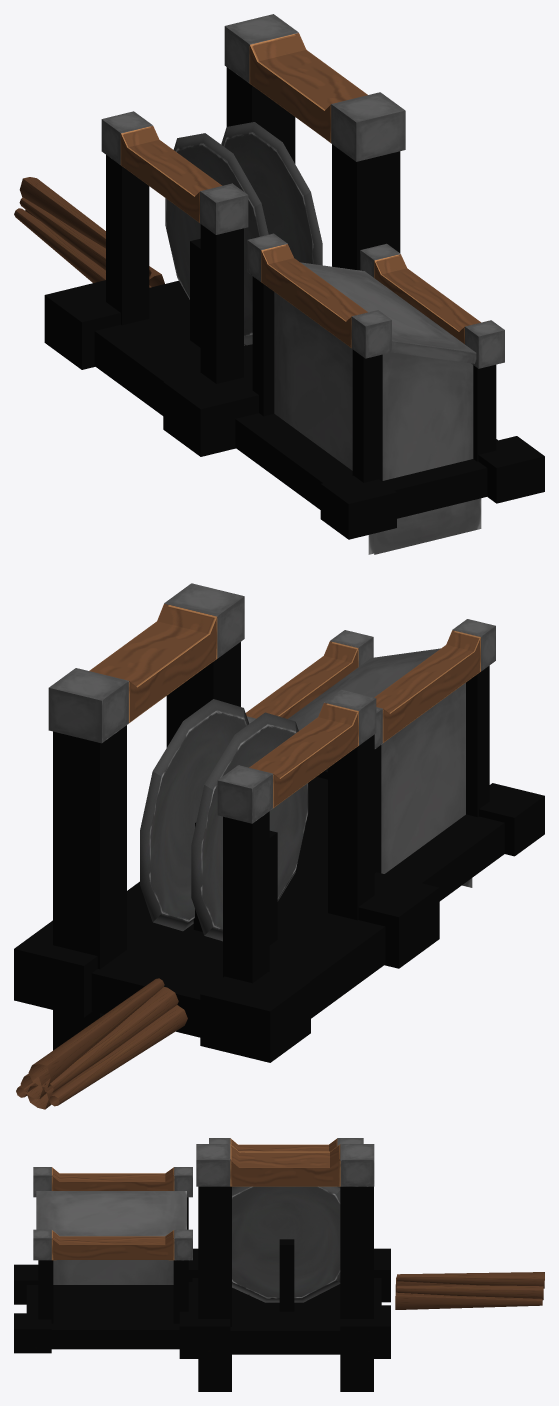
File: Lumber Mill 4.FBX
3 views of the same model, one above another, from view 1: azimuth 30°, elevation 25°; view 2: azimuth 150°, elevation 25°; view 3: azimuth 270°, elevation 25° (orthographic). The views are drawn at different scales.
Visible parts, largest first — view 1: Box573, Box515; view 2: Box573, Box515; view 3: Box573, Box515.
Boxes of the visible parts, box(x1,y1,x2,y2) form: Box573: box(44, 14, 544, 554); Box515: box(14, 177, 164, 287); Box573: box(14, 583, 544, 1062); Box515: box(16, 978, 187, 1109); Box573: box(14, 1138, 390, 1391); Box515: box(395, 1272, 544, 1309).
Bounding box in the file's own units: 54.02 × 75.2 × 155.
